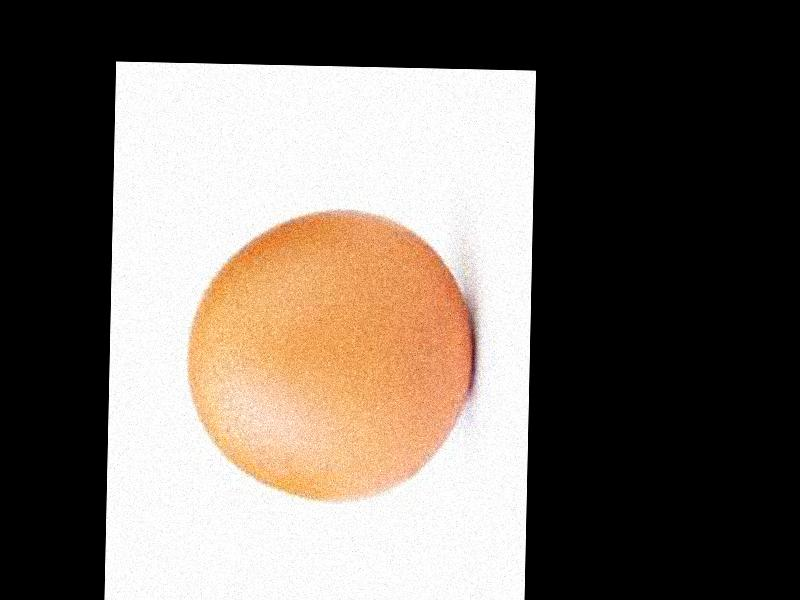Eggs: (188, 208, 473, 503)
